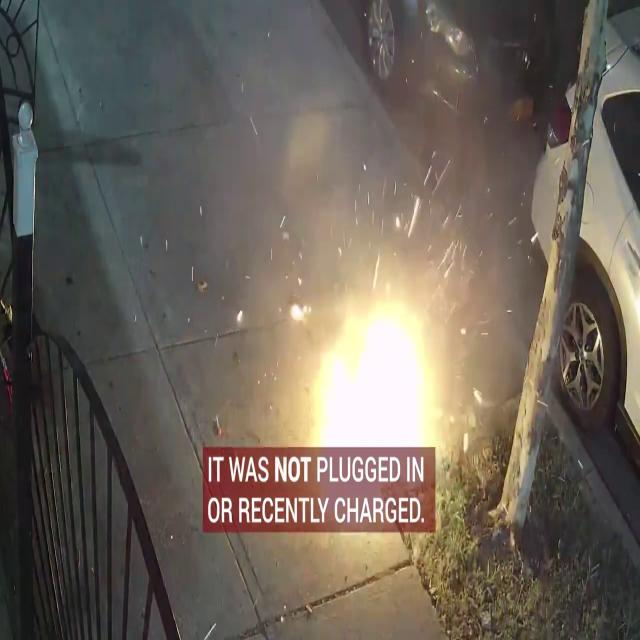Fire: (296, 264, 466, 472)
